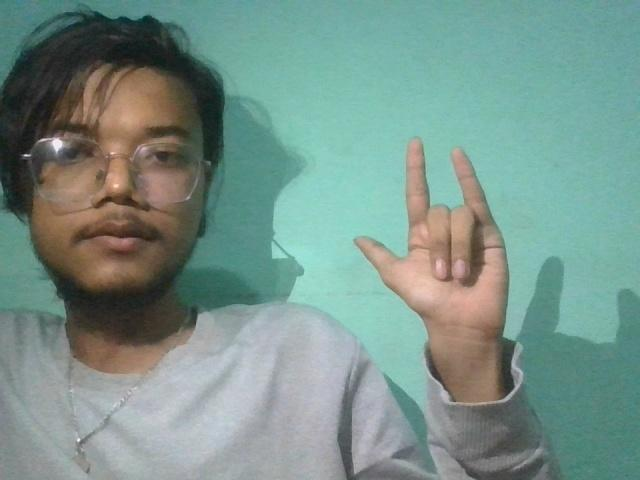I Love You: (342, 131, 558, 359)
